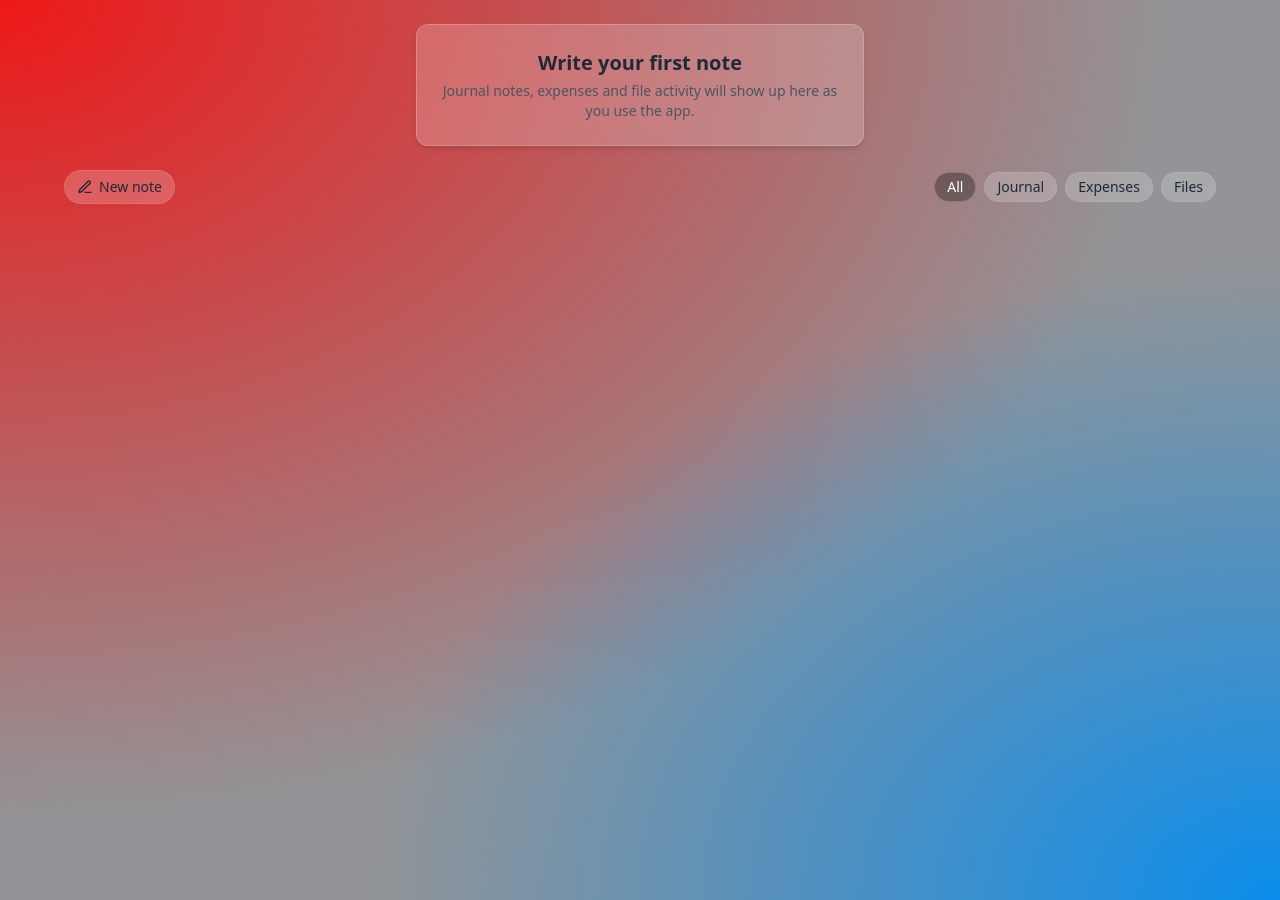
Scenario: feed filters › explains an empty filter instead of the first-note prompt
Expected: the heading "Write your first note" is shown, [538, 49, 742, 76]
What coordinates should you click on to do the following:
click the button "Expenses"
I would click on:
 (1109, 187)
Its box is [1065, 172, 1153, 202].
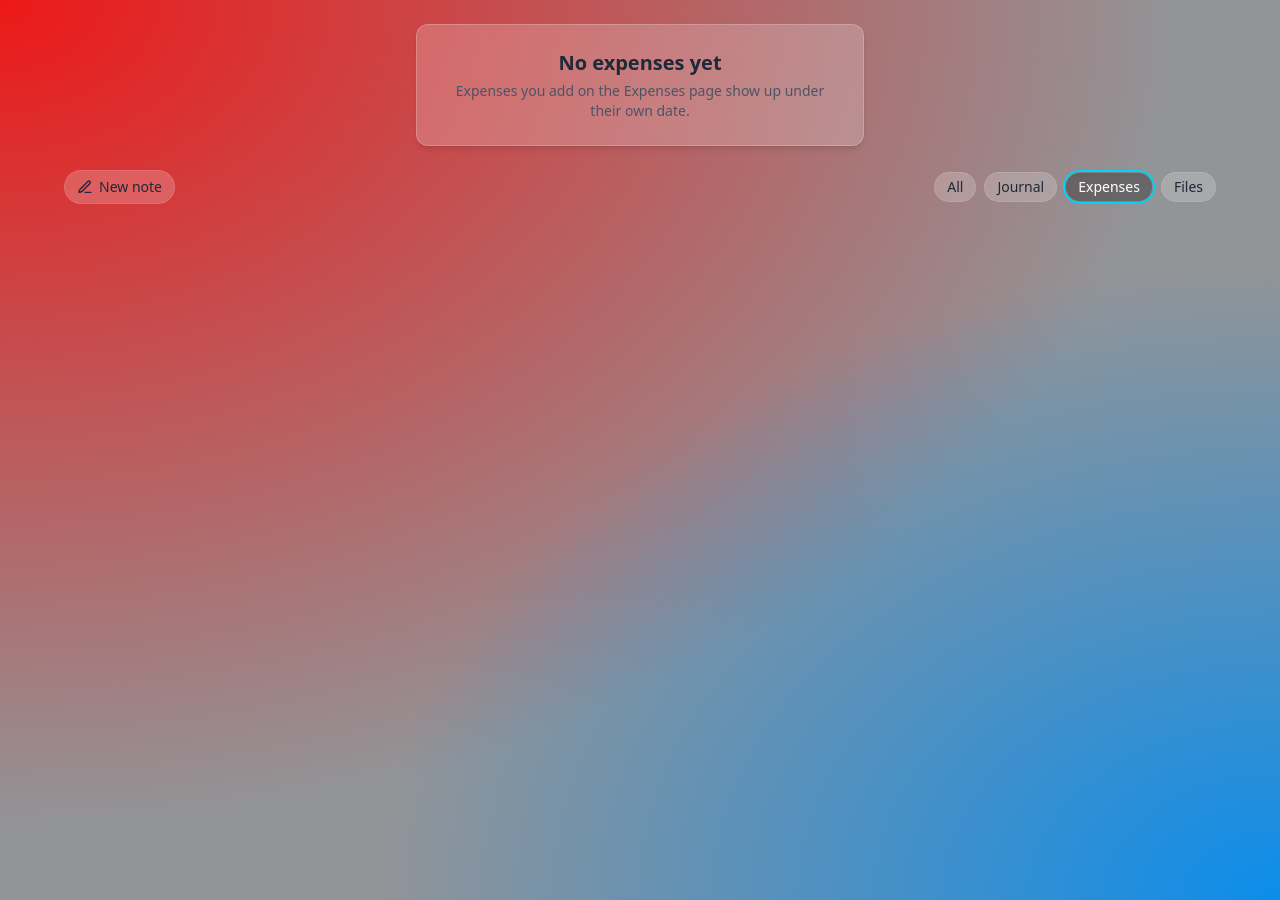
Now the heading "No expenses yet" is shown, box [558, 49, 722, 76]
